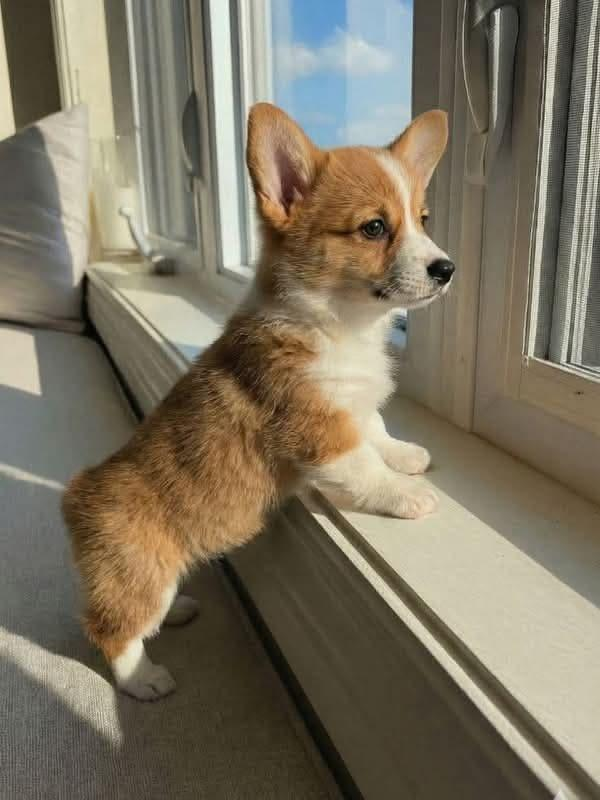dog: (64, 104, 453, 698)
